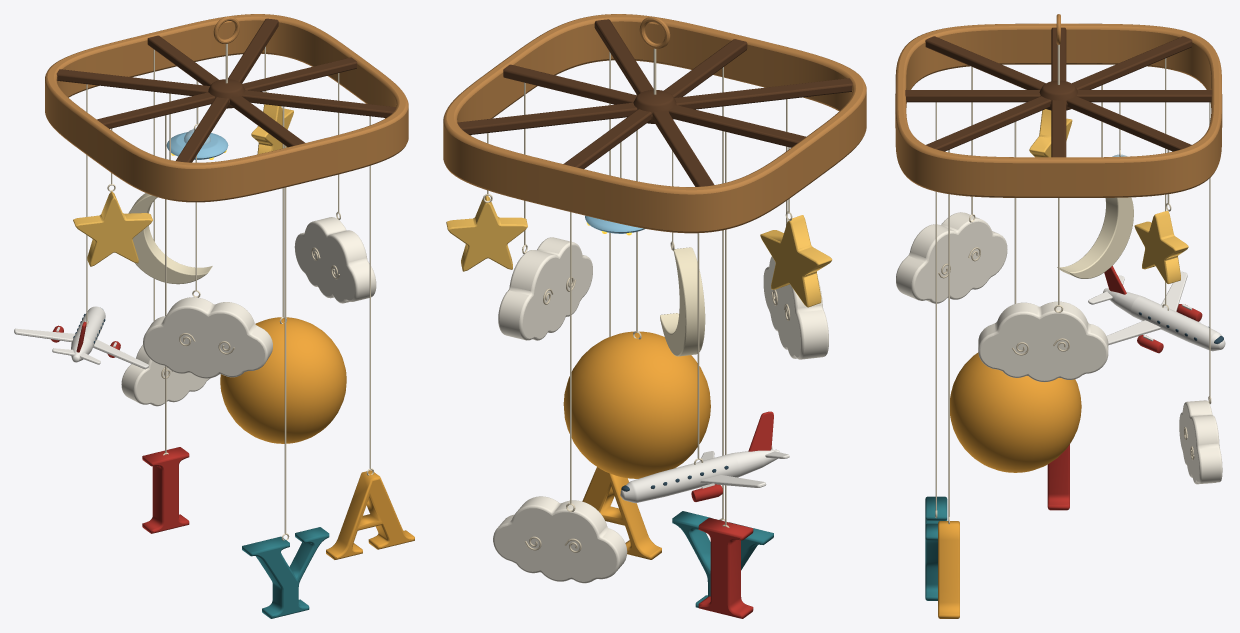
The model's file is baby-mobile.glb.
3 views of the same model, side by side, from view 1: azimuth 30°, elevation 25°; view 2: azimuth 150°, elevation 25°; view 3: azimuth 270°, elevation 25° (orthographic). The views are drawn at different scales.
Parts seen in each view (by area): view 1: baby_mobile; view 2: baby_mobile; view 3: baby_mobile.
Boxes of the visible parts, <box> form: baby_mobile: <box>14,14,414,618</box>; baby_mobile: <box>443,14,866,618</box>; baby_mobile: <box>895,14,1225,618</box>.
Size of the model in its own units: 0.4267 by 0.7778 by 0.4041.
